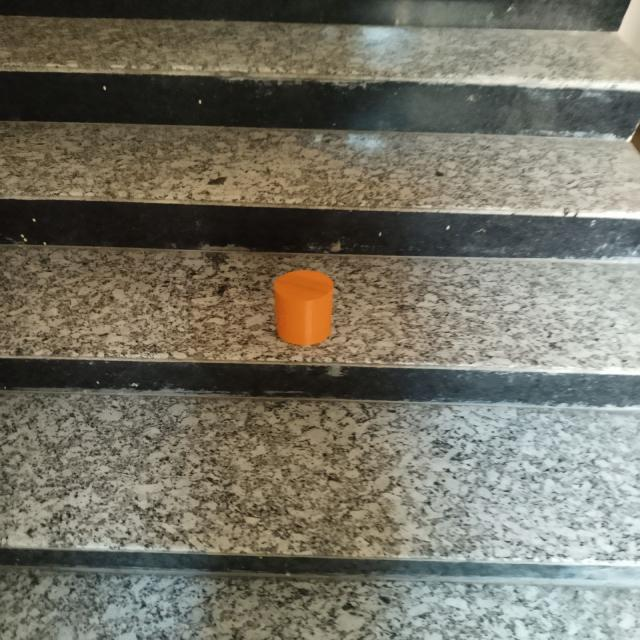Cylinder: (272, 268, 334, 346)
